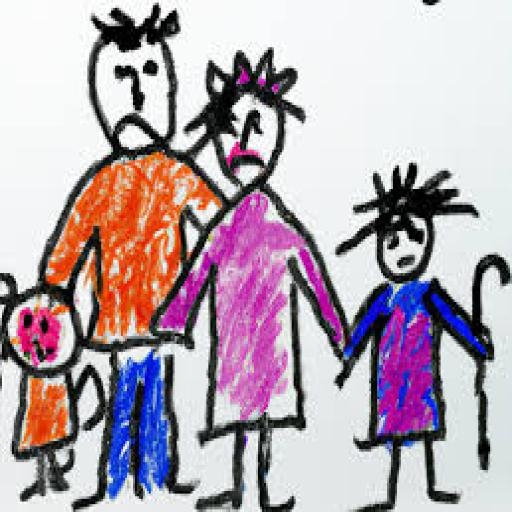person: (41, 0, 223, 509), (156, 45, 349, 508), (332, 148, 492, 508), (2, 271, 104, 505)
